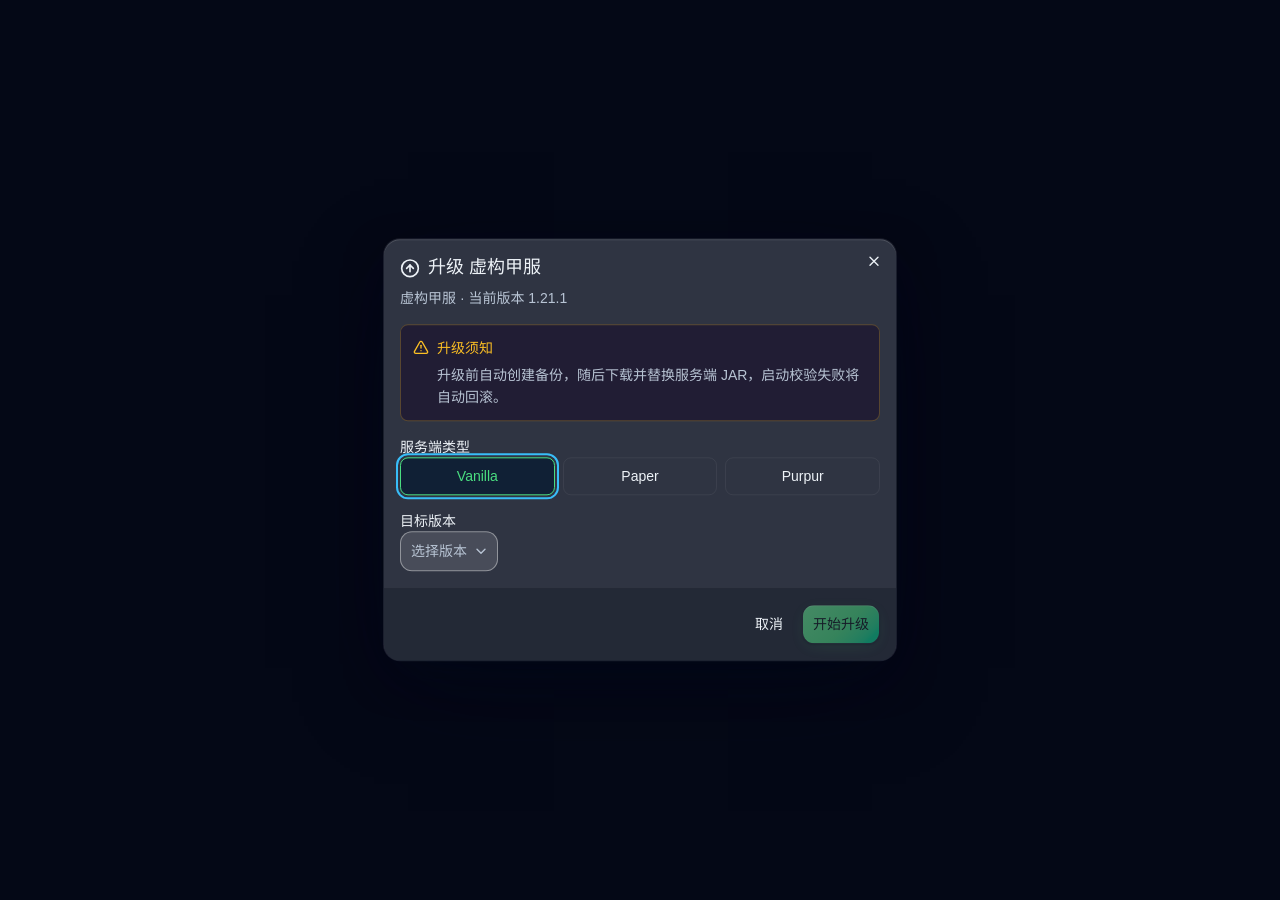
Test: UpgradeDialog › 版本下拉：目标版本可选、当前版本（1.21.1）禁选
Click the dropdown at (449, 552), box [400, 532, 498, 572]
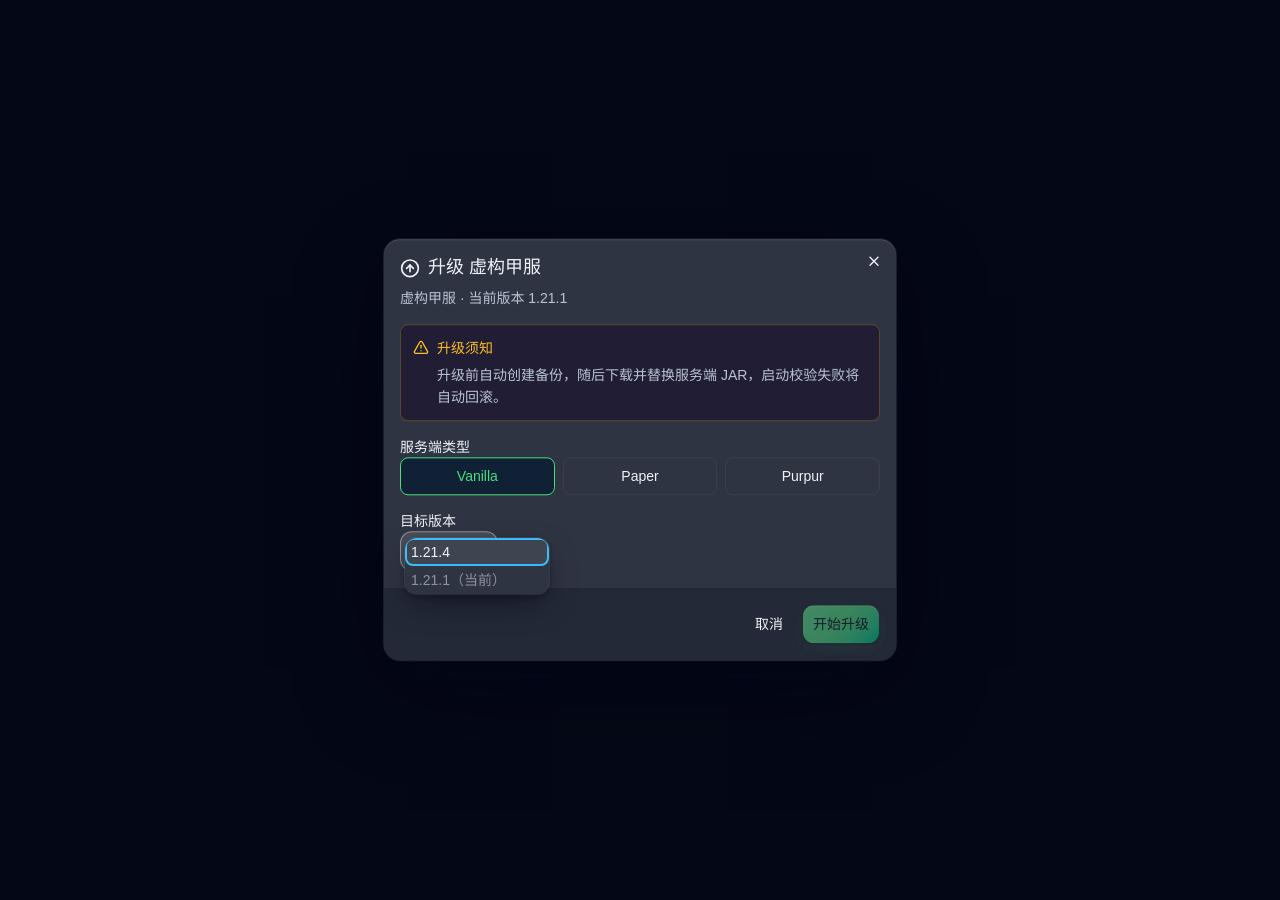
Expected: the option "1.21.1（当前）" is shown
Click the option "1.21.1（当前）" at (458, 580), box [411, 572, 506, 588]
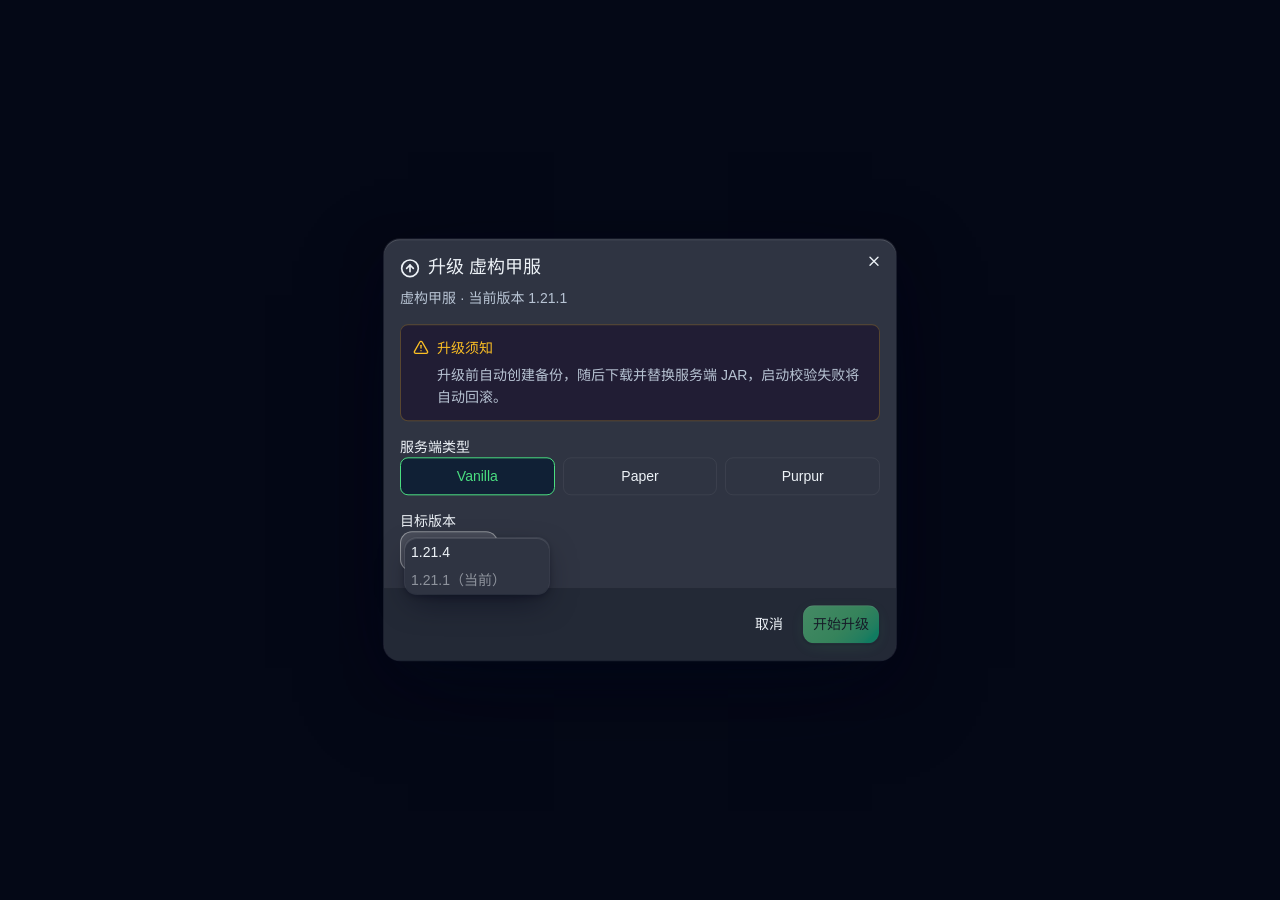
Expected: the option "1.21.1（当前）" is shown, [411, 572, 506, 588]
Press Escape
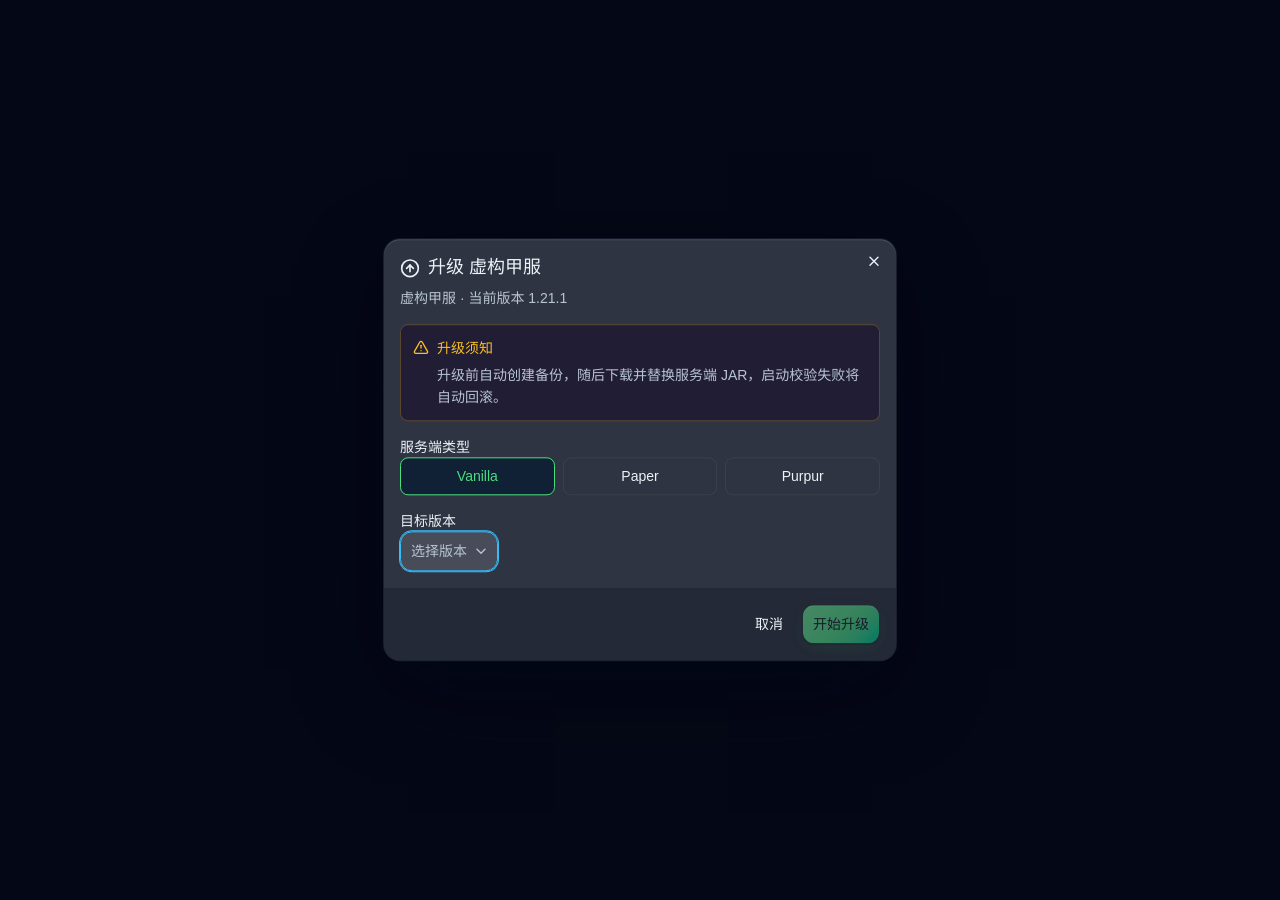
Expected: the button "开始升级" is disabled, [802, 605, 880, 645]
Click the dropdown at (449, 552), box [400, 532, 498, 572]
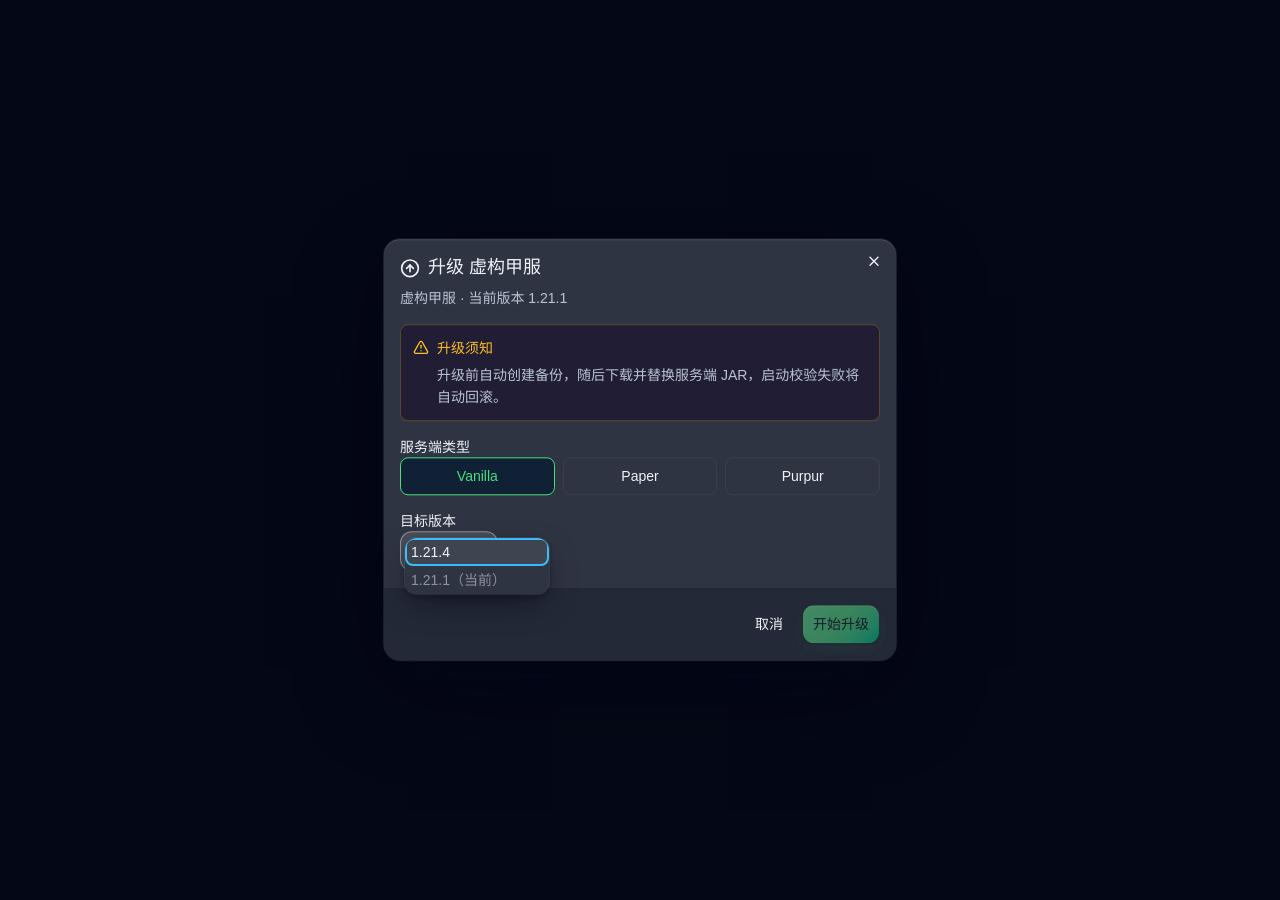
Click the option "1.21.4" at (477, 552), box [405, 538, 549, 566]
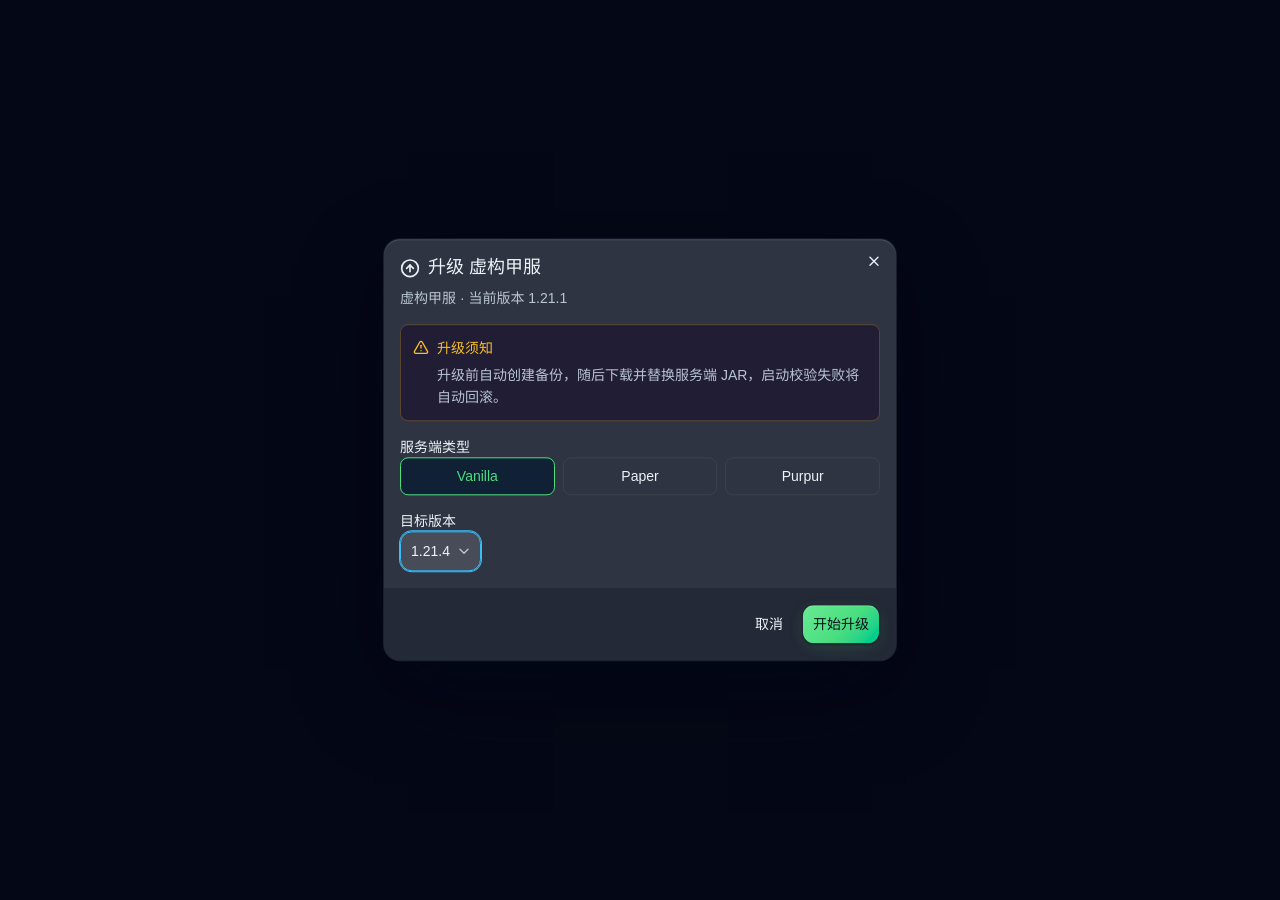
Expected: the dropdown reads "1.21.4", [400, 532, 481, 572]
Expected: the button "开始升级" is enabled, [802, 605, 880, 645]
